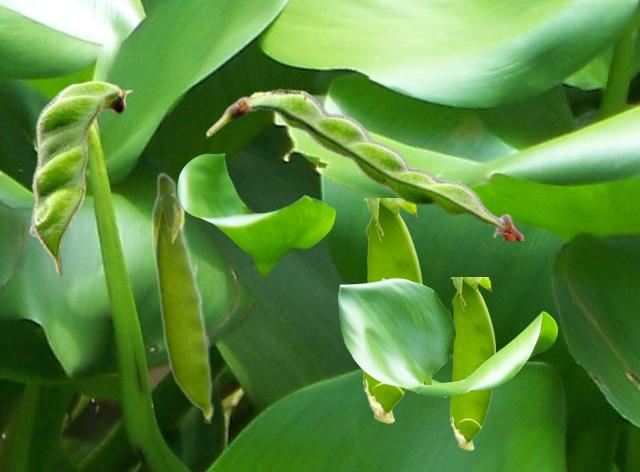pea: (206, 89, 524, 239), (28, 80, 132, 276), (150, 171, 214, 423), (363, 198, 421, 422), (450, 277, 494, 449)
